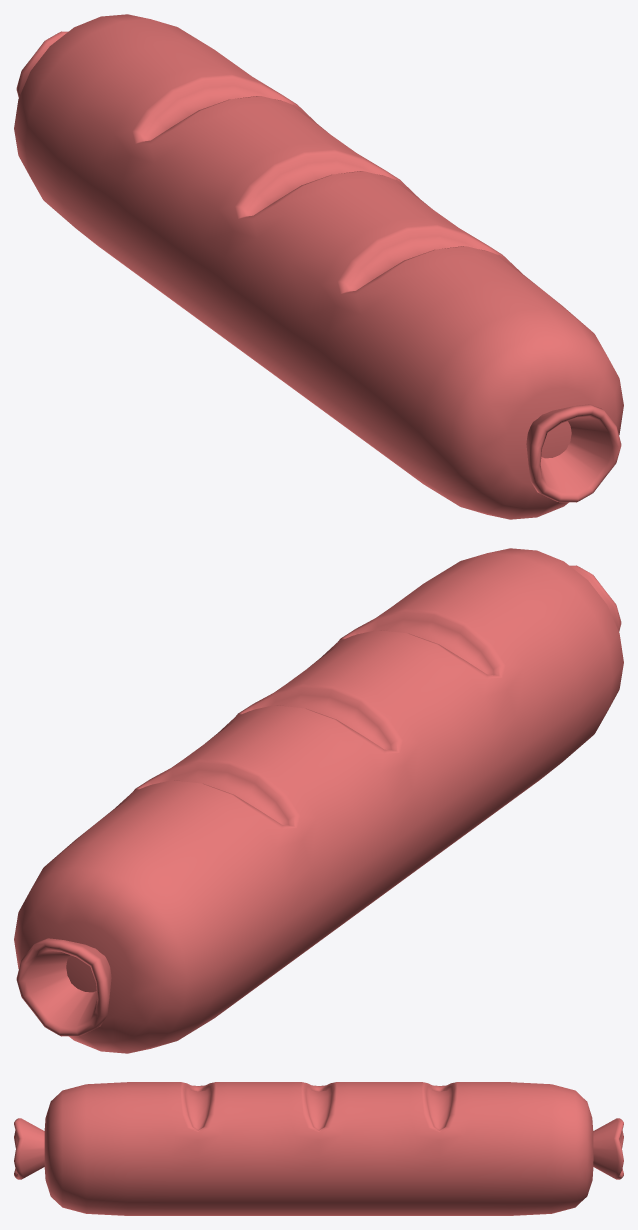
File: Sausage.fbx
The picture shows the model from 3 angles, top to bottom: view 1: azimuth 30°, elevation 25°; view 2: azimuth 150°, elevation 25°; view 3: azimuth 270°, elevation 25°; orthographic projection. The views are drawn at different scales.
Parts seen in each view (by area): view 1: Sausage; view 2: Sausage; view 3: Sausage.
Boxes of the visible parts, x1,y1,x2,y2 form: Sausage: [14, 14, 623, 519]; Sausage: [14, 548, 623, 1053]; Sausage: [14, 1082, 623, 1215].
Size of the model in its own units: 4.19 by 4.19 by 18.97.
